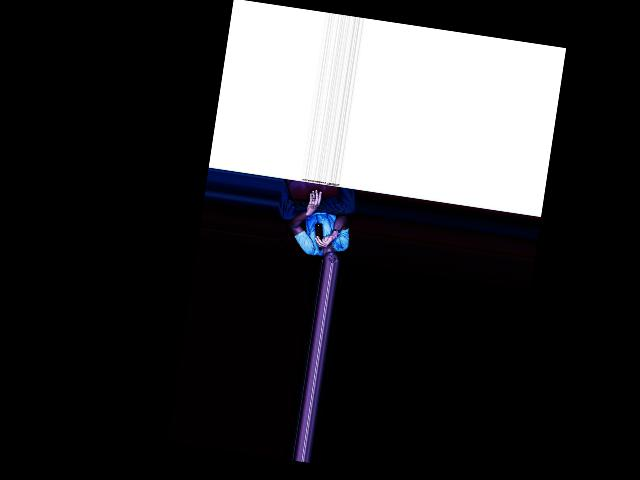beer: (310, 222, 325, 251)
